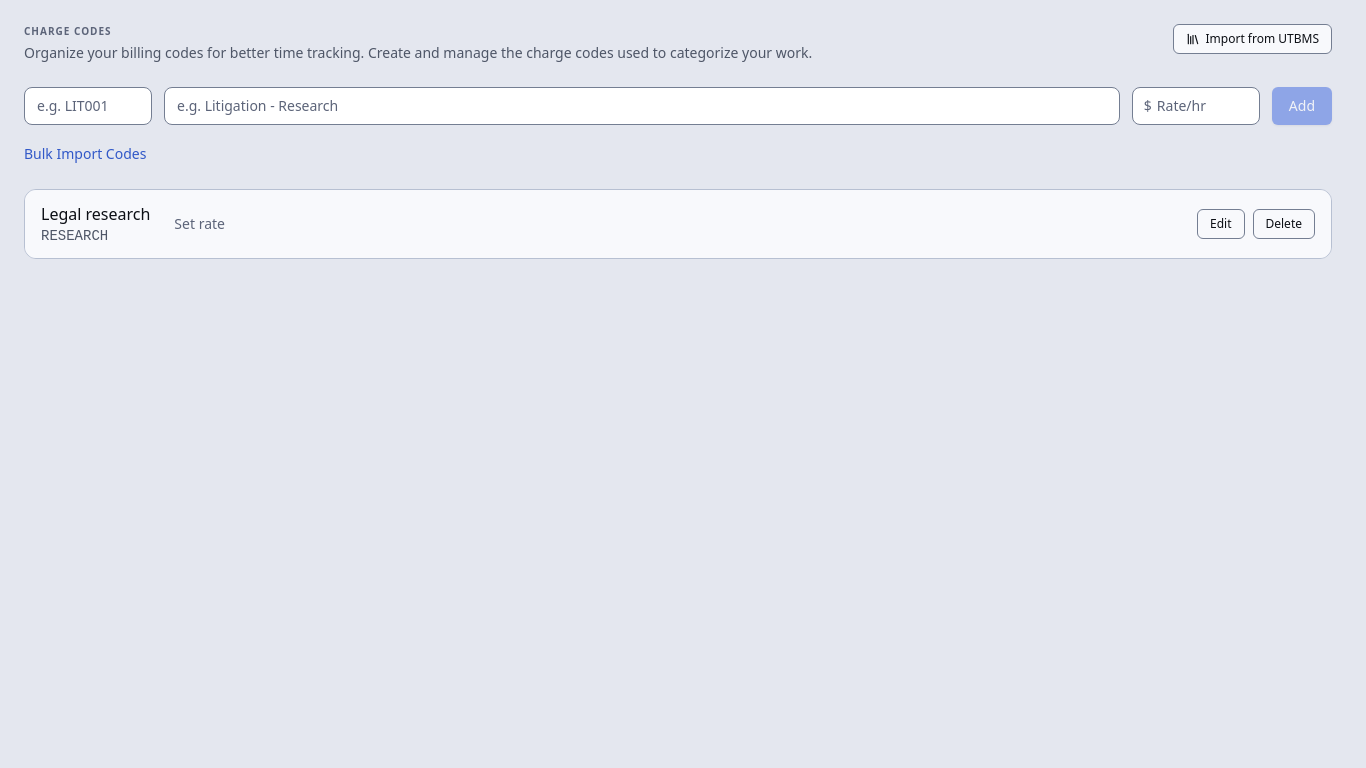
it: charge codes › shows the refusal inside the confirm dialog
The image size is (1366, 768).
Expected: the text "Legal research" is shown, [41,202,150,226]
Click the button "Delete" at [1284, 224], box [1252,209,1315,239]
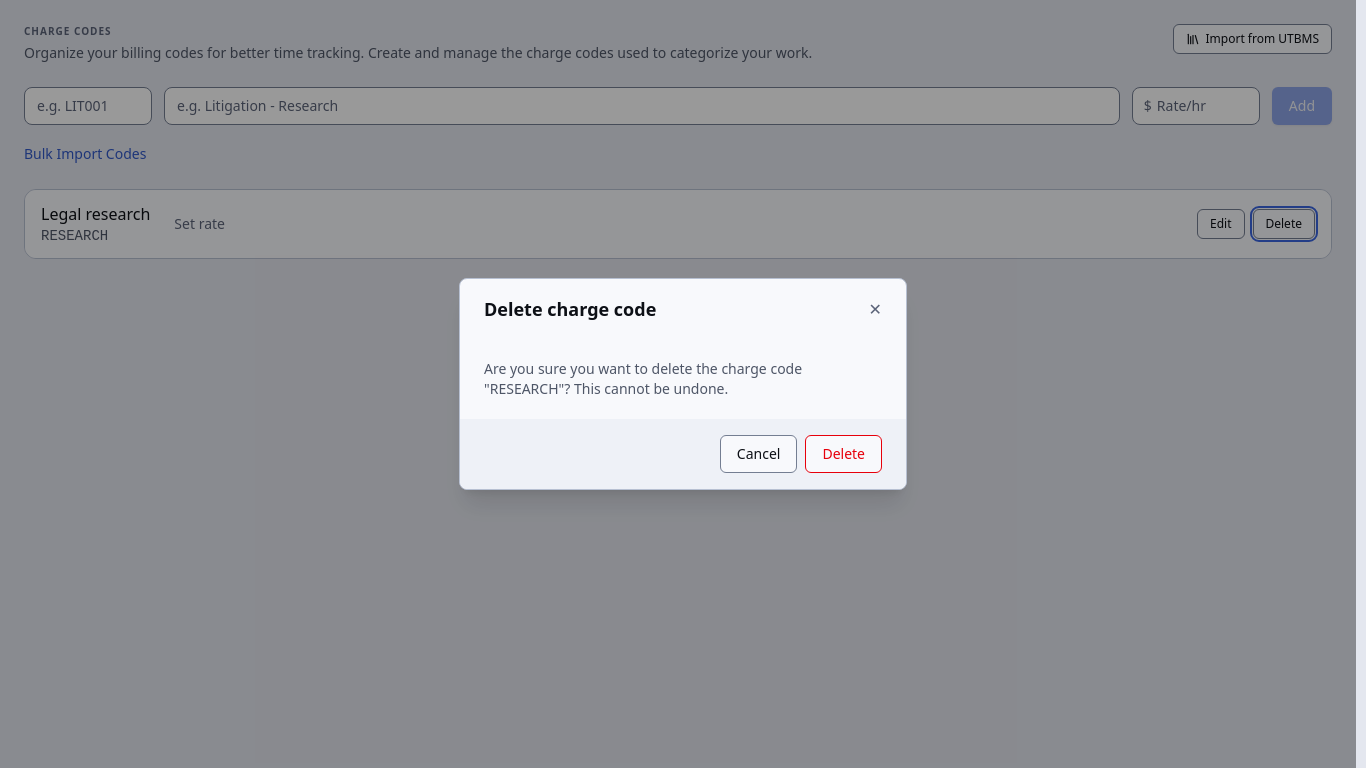
Click the button "Delete" at [844, 454], box [805,435,882,473]
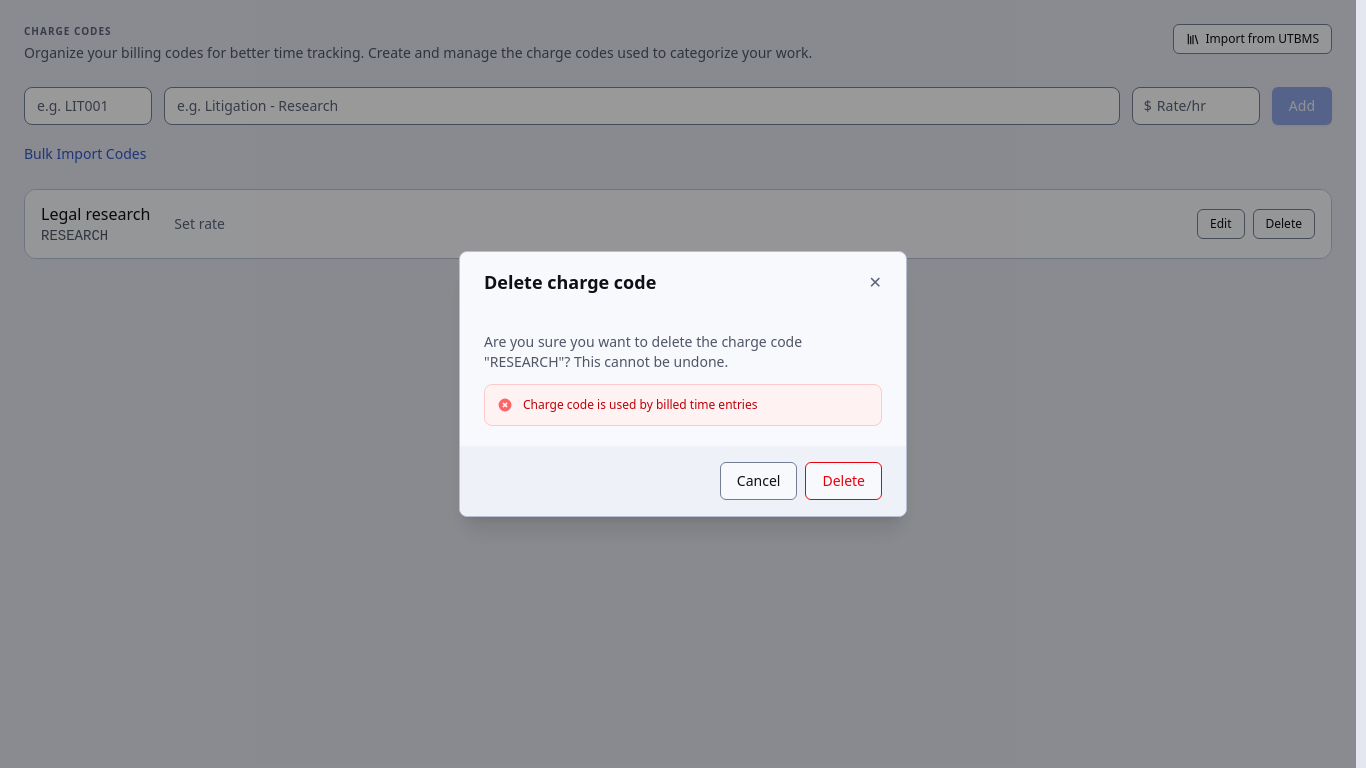
Expected: the message reads "Charge code is used by billed time entries", [523,396,758,413]
Expected: the number of messages is 1, [484,384,882,426]
